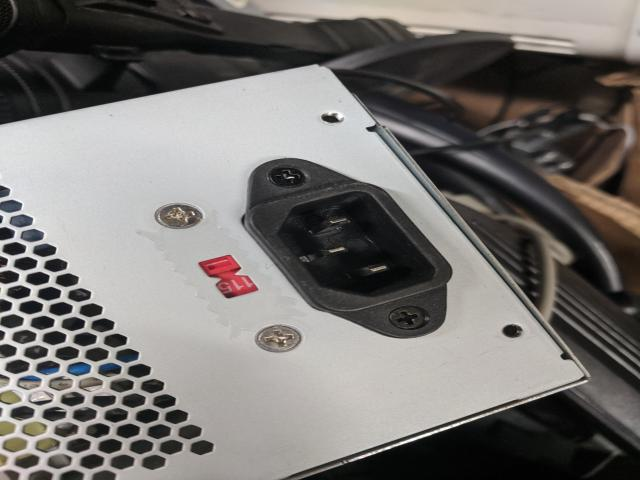CRS: (153, 201, 212, 229), (254, 325, 304, 353), (268, 166, 308, 189), (389, 307, 428, 330)
